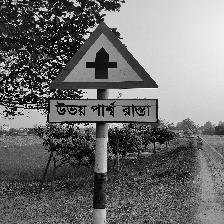Crossroad: (36, 18, 172, 147)
